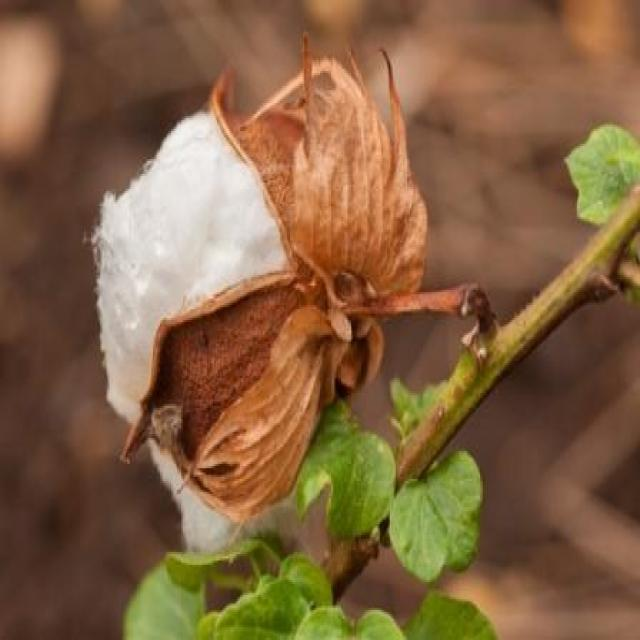Leaf: (82, 21, 490, 559)
